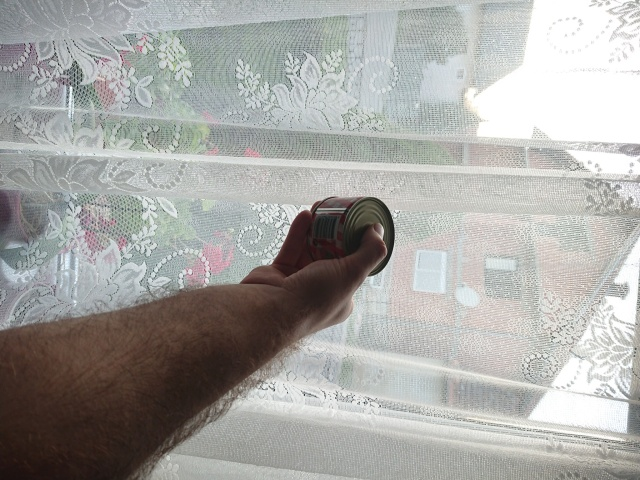Podravka Luncheon Meat 150g: (305, 194, 397, 279)
